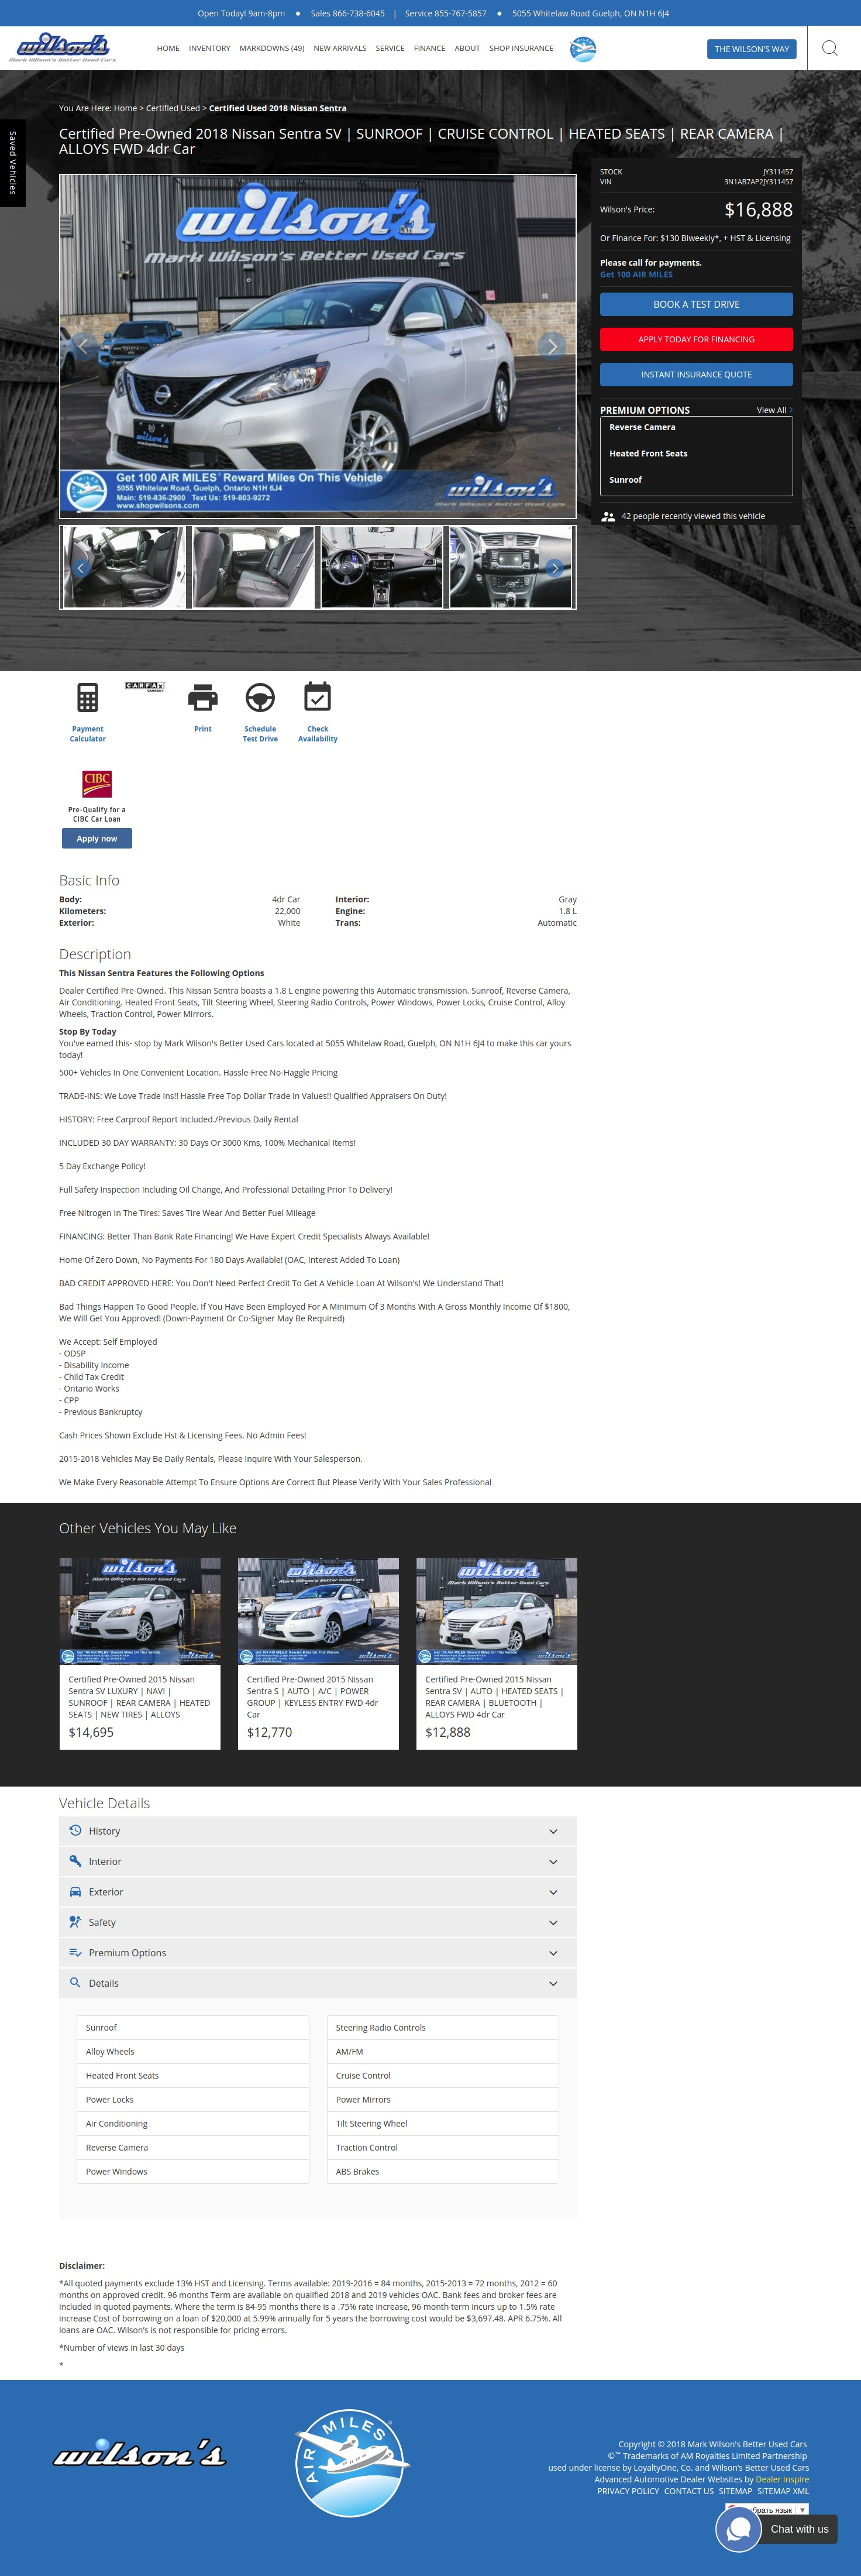car: (552, 563, 559, 573)
